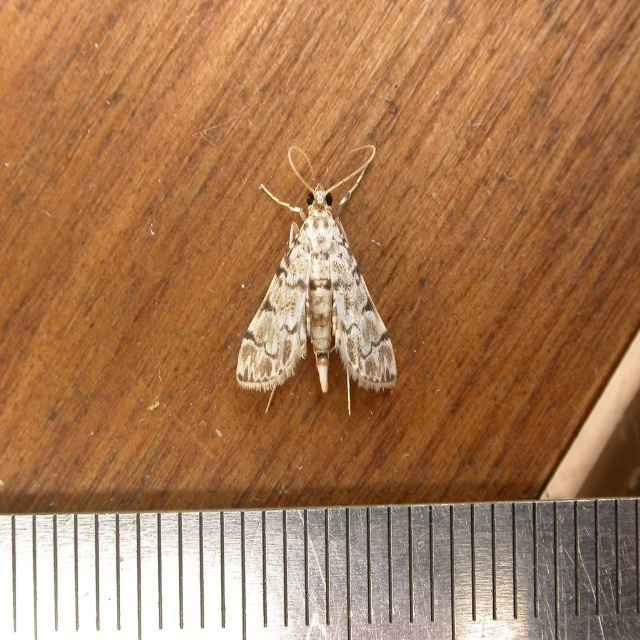Moths and butterflies: (235, 142, 399, 414)
